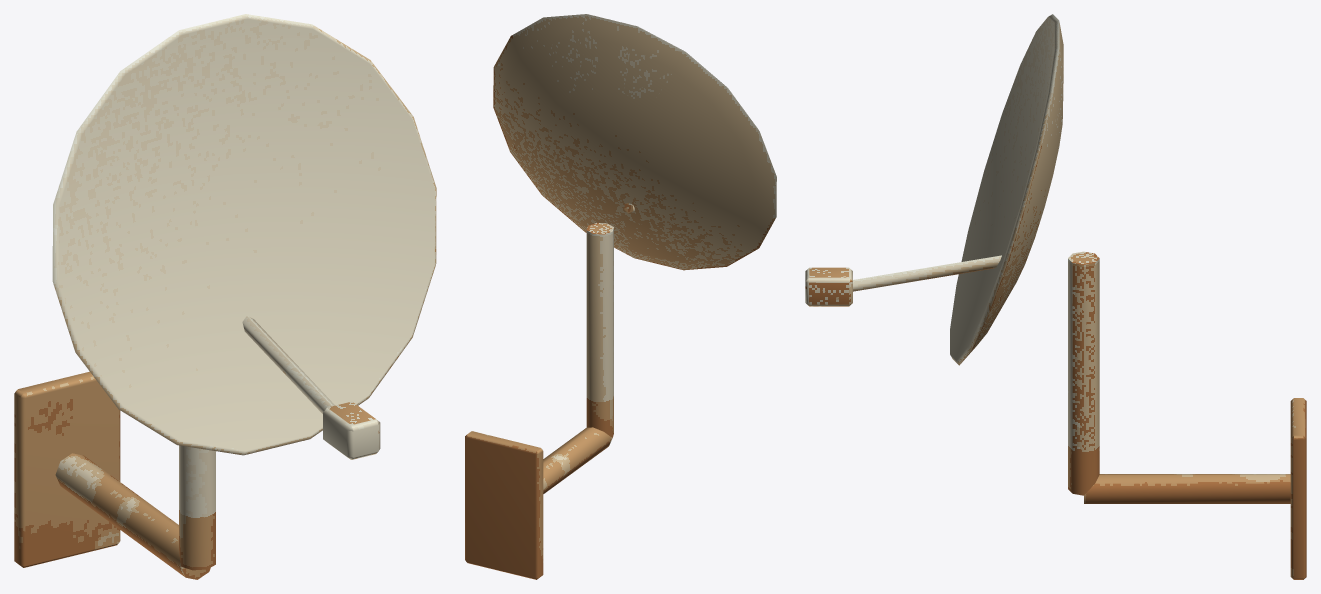
The model's file is sat_dish.glb.
3 views of the same model, side by side, from view 1: azimuth 30°, elevation 25°; view 2: azimuth 150°, elevation 25°; view 3: azimuth 270°, elevation 25° (orthographic). The views are drawn at different scales.
Parts seen in each view (by area): view 1: mesh; view 2: mesh; view 3: mesh.
Part boxes in pixels (x1=…): mesh: x1=14, y1=14, x2=436, y2=579; mesh: x1=465, y1=14, x2=776, y2=579; mesh: x1=805, y1=14, x2=1306, y2=579.
Size of the model in its own units: 0.4599 by 0.731 by 0.6299.
1 material, 1 textured.
